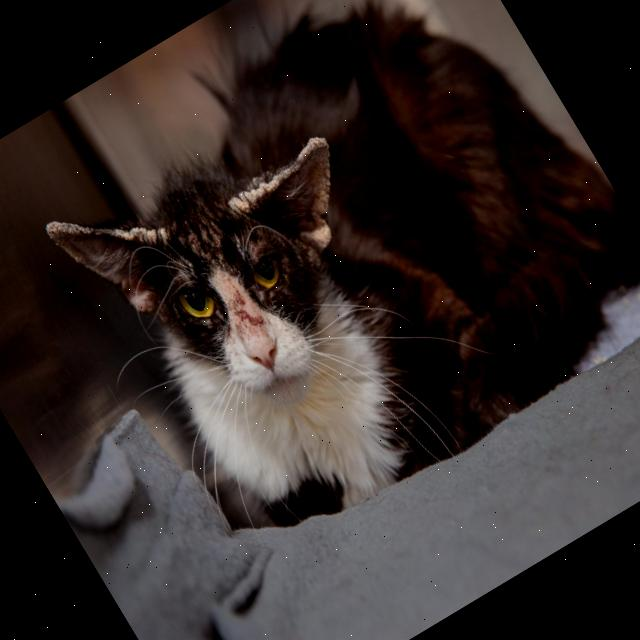cat-scabies: (28, 152, 203, 343), (210, 121, 380, 289)
